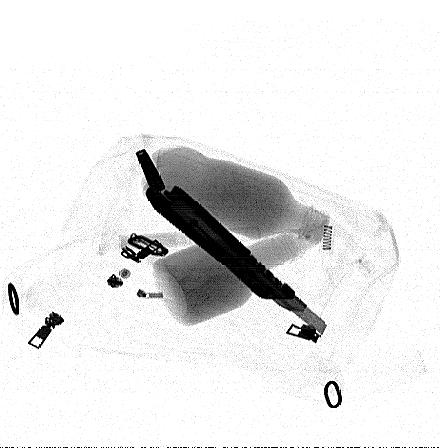Knife: (143, 182, 328, 336)
